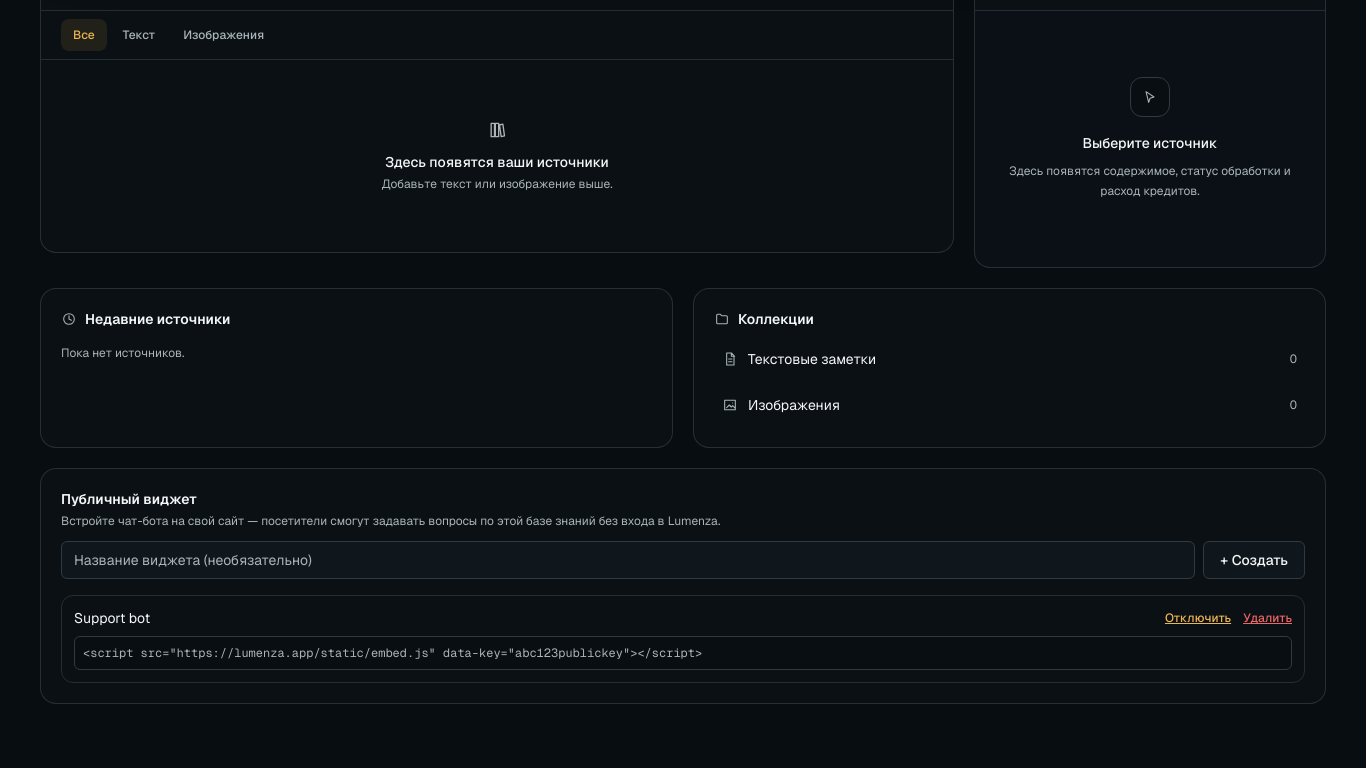
Test: KnowledgePage › deletes an embed widget
The width and height of the screenshot is (1366, 768).
(page scrolled)
Expected: the text "Support bot" is shown, [74, 608, 150, 628]
Click the button "Удалить".
click(1268, 618)  # box [1243, 610, 1292, 626]
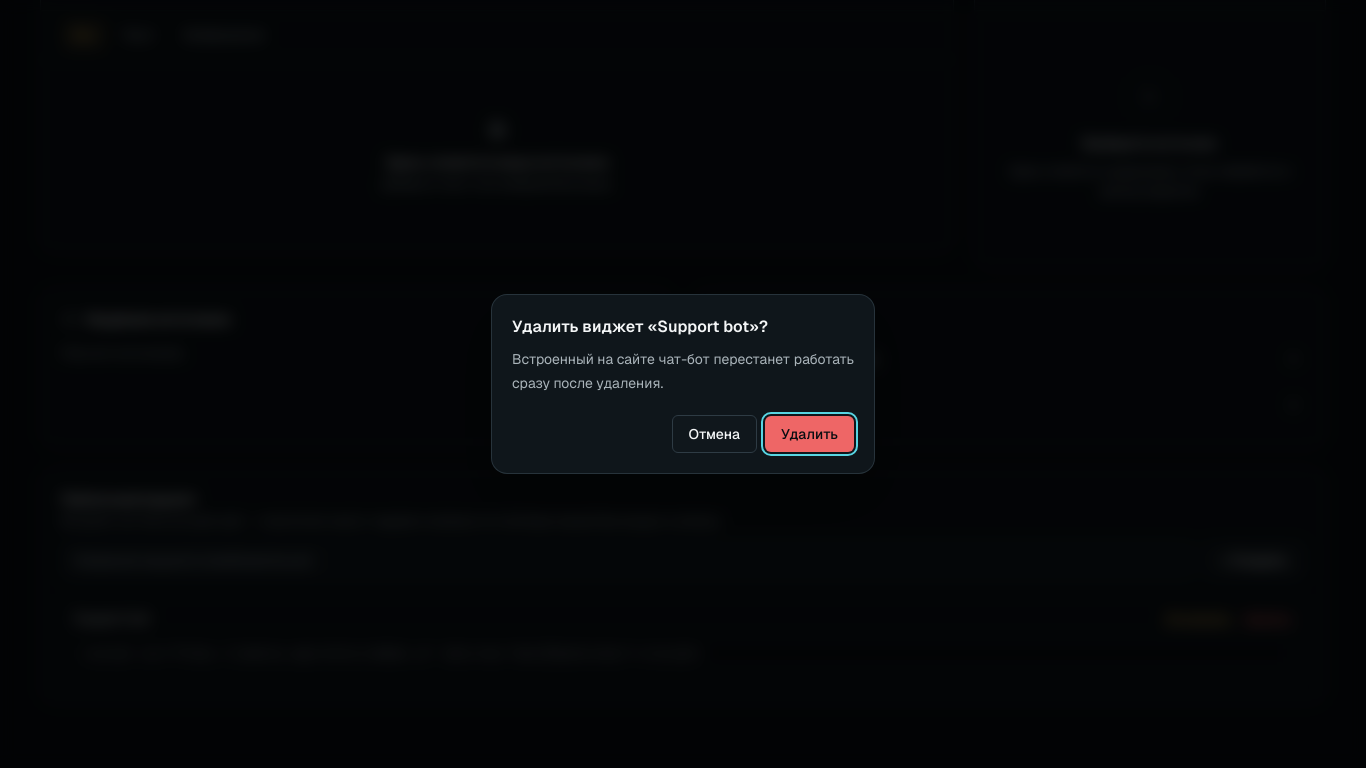
Click the button "Удалить".
click(810, 434)  # box [765, 416, 854, 452]
(page scrolled)
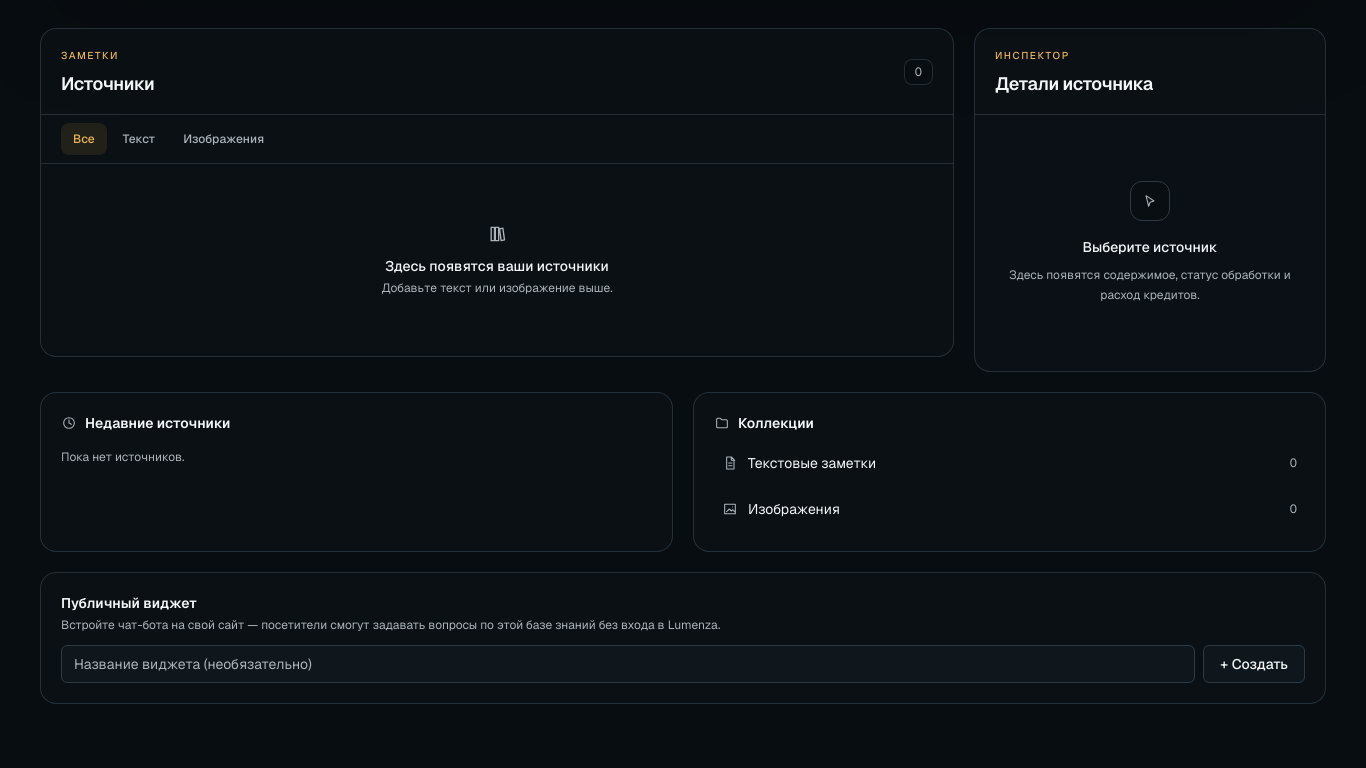
Result: the text "Support bot" is gone
